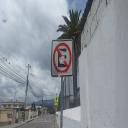NoEstacionar: (49, 36, 76, 82)
